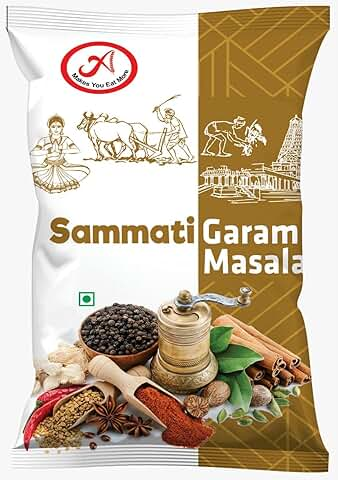Garamasala: (4, 9, 338, 480)
